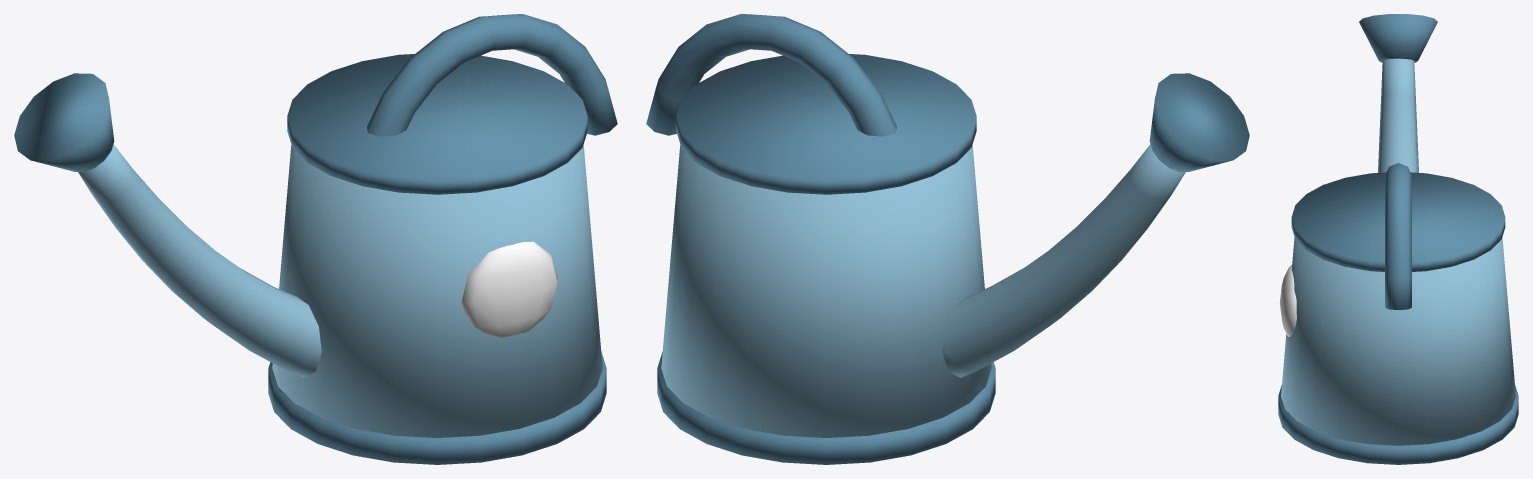
The model's file is tool-can.glb.
3 renders of one model, left to right at view 1: azimuth 30°, elevation 25°; view 2: azimuth 150°, elevation 25°; view 3: azimuth 270°, elevation 25°, orthographic. The views are drawn at different scales.
Parts seen in each view (by area): view 1: tool; view 2: tool; view 3: tool.
Boxes of the visible parts, x1,y1,x2,y2 form: tool: [14, 14, 617, 464]; tool: [646, 14, 1249, 464]; tool: [1278, 14, 1518, 464].
Bounding box in the file's own units: 0.614 × 0.3942 × 0.304.
